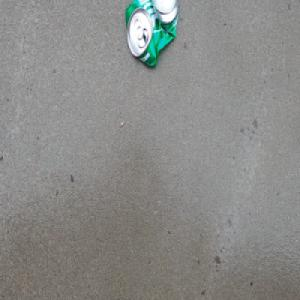SodaCan: (124, 0, 178, 69)
